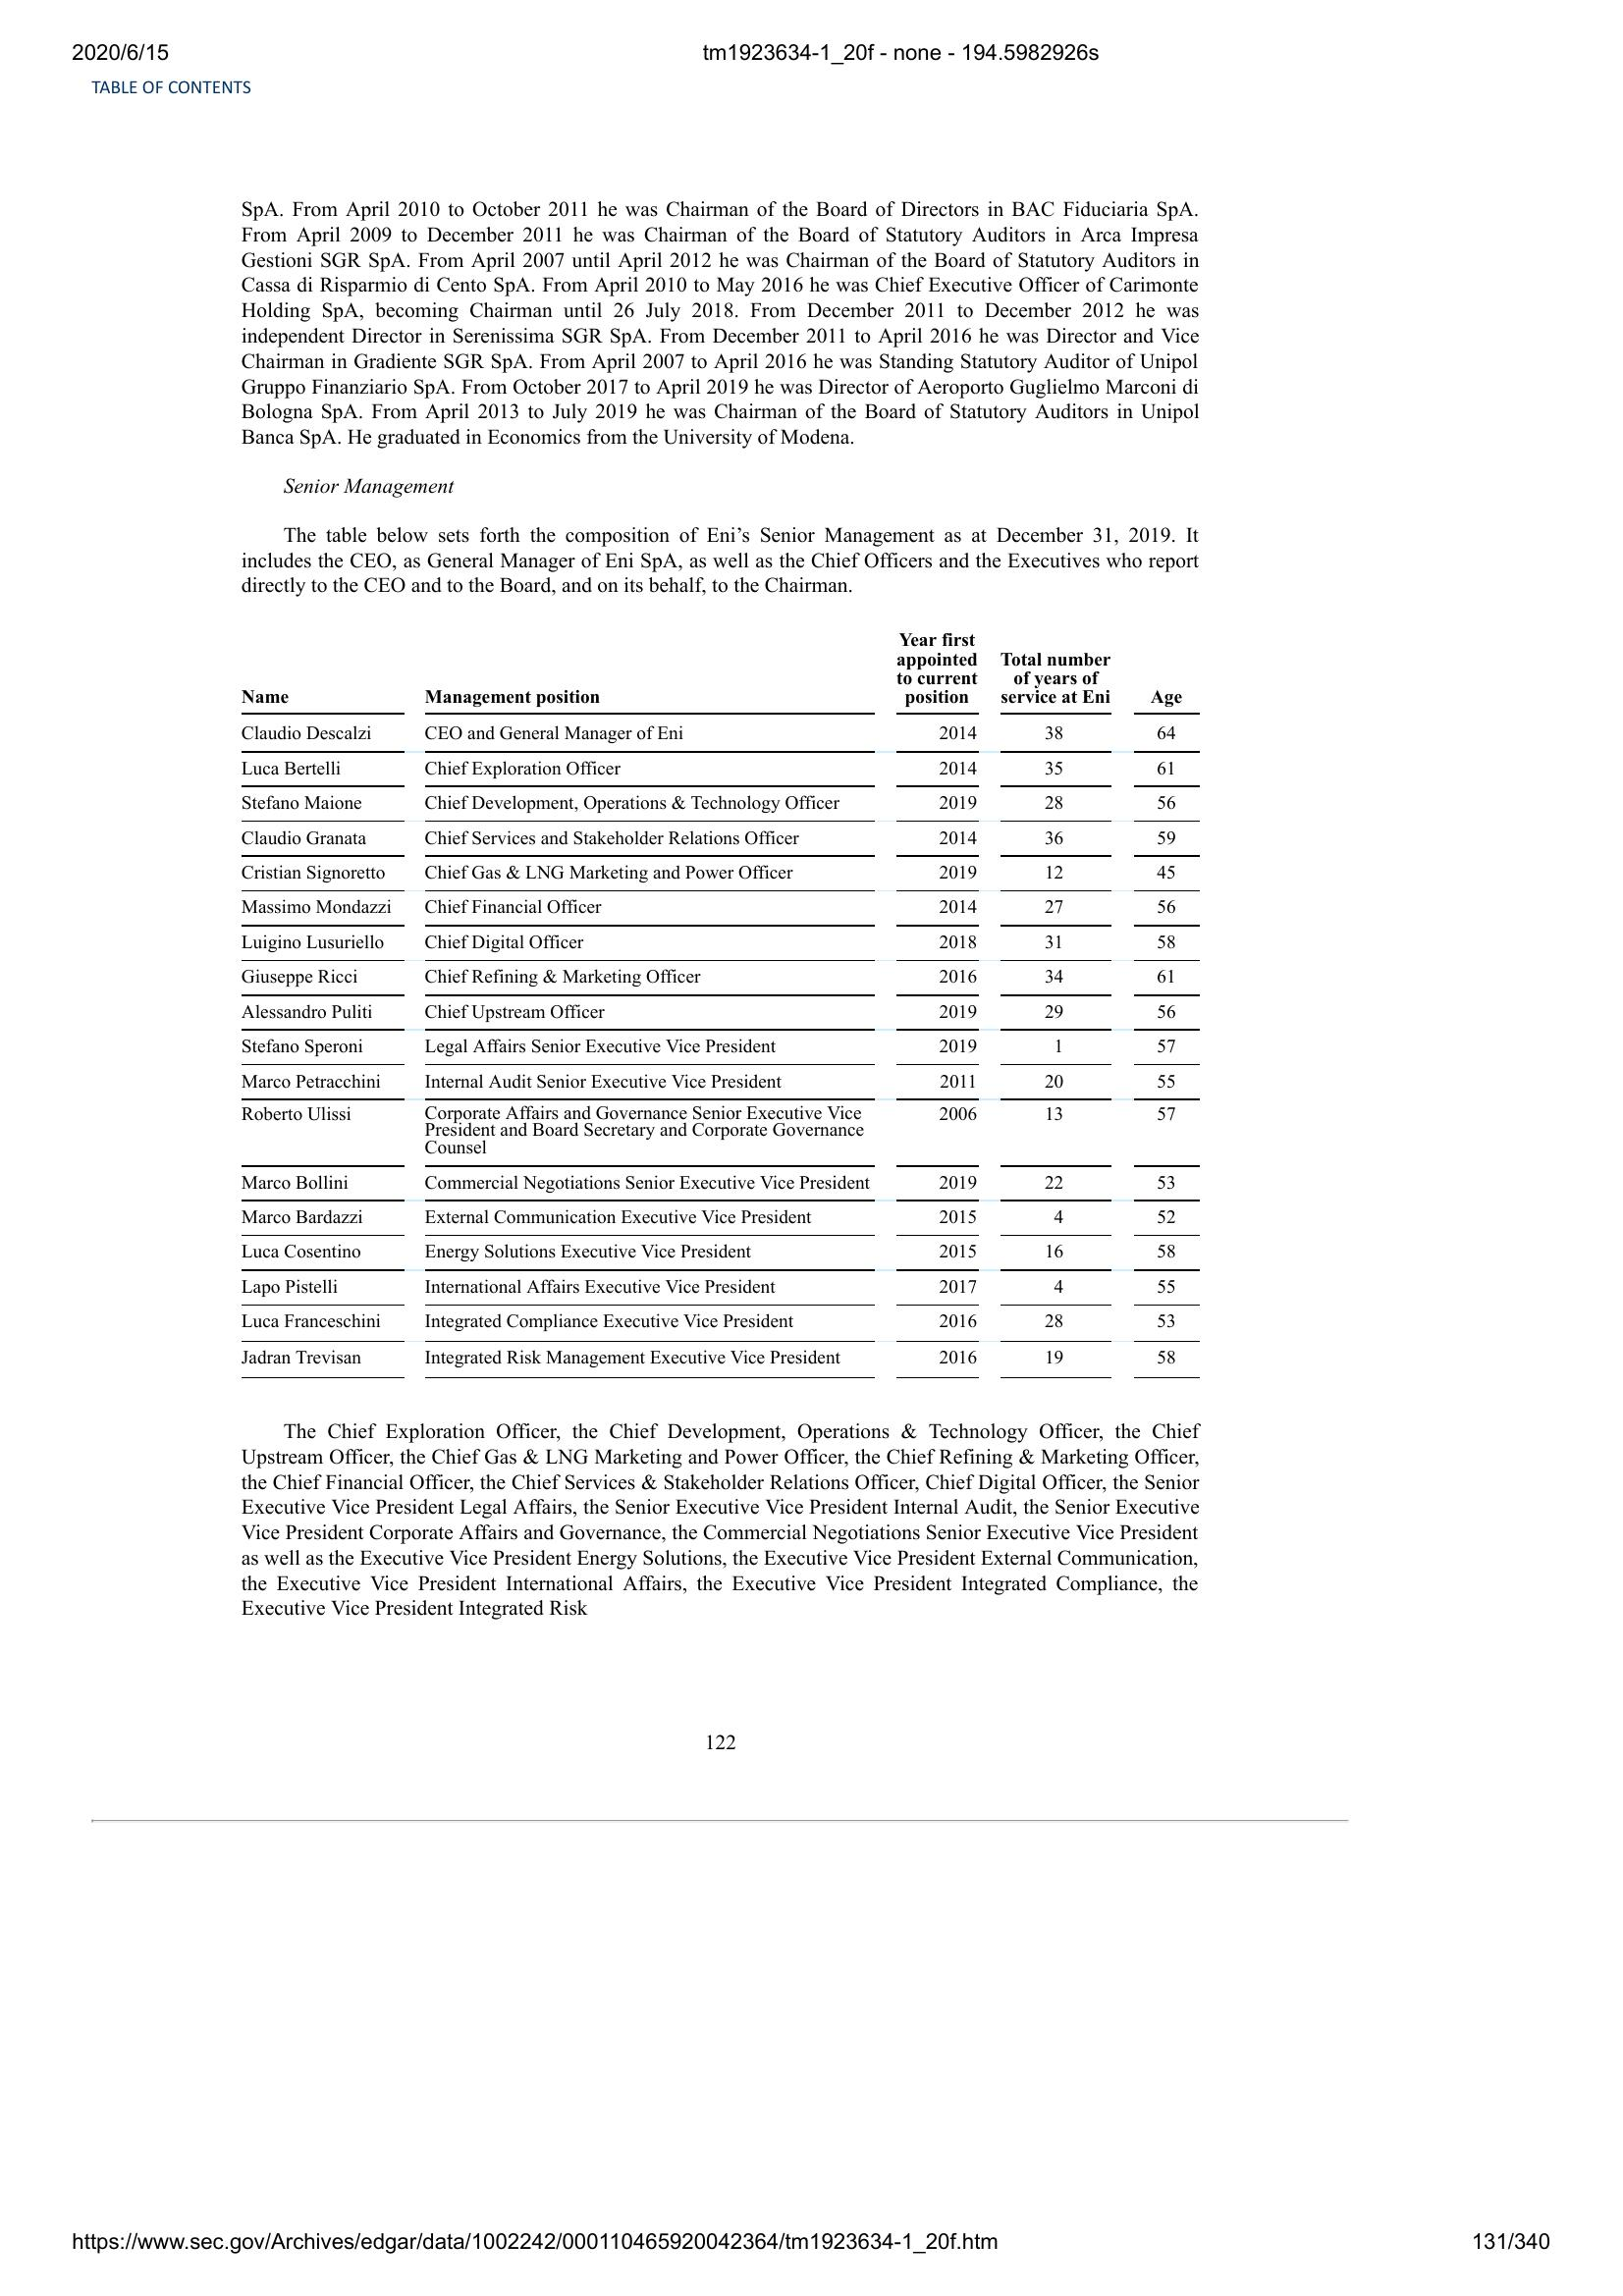table: (234, 616, 1205, 1385)
